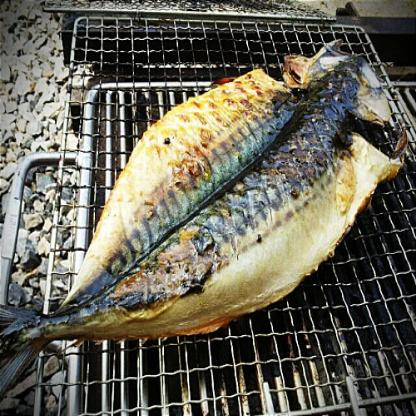Peixe: (0, 25, 399, 372)
